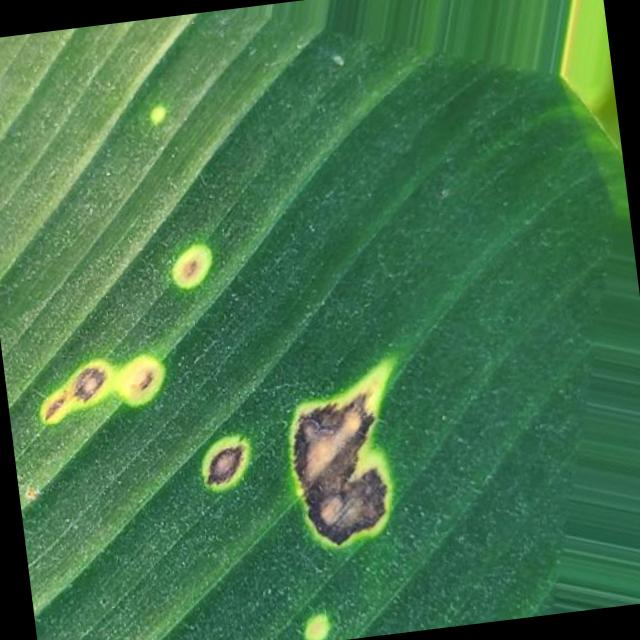Banana_Black_Sigatoka: (66, 183, 486, 588)
